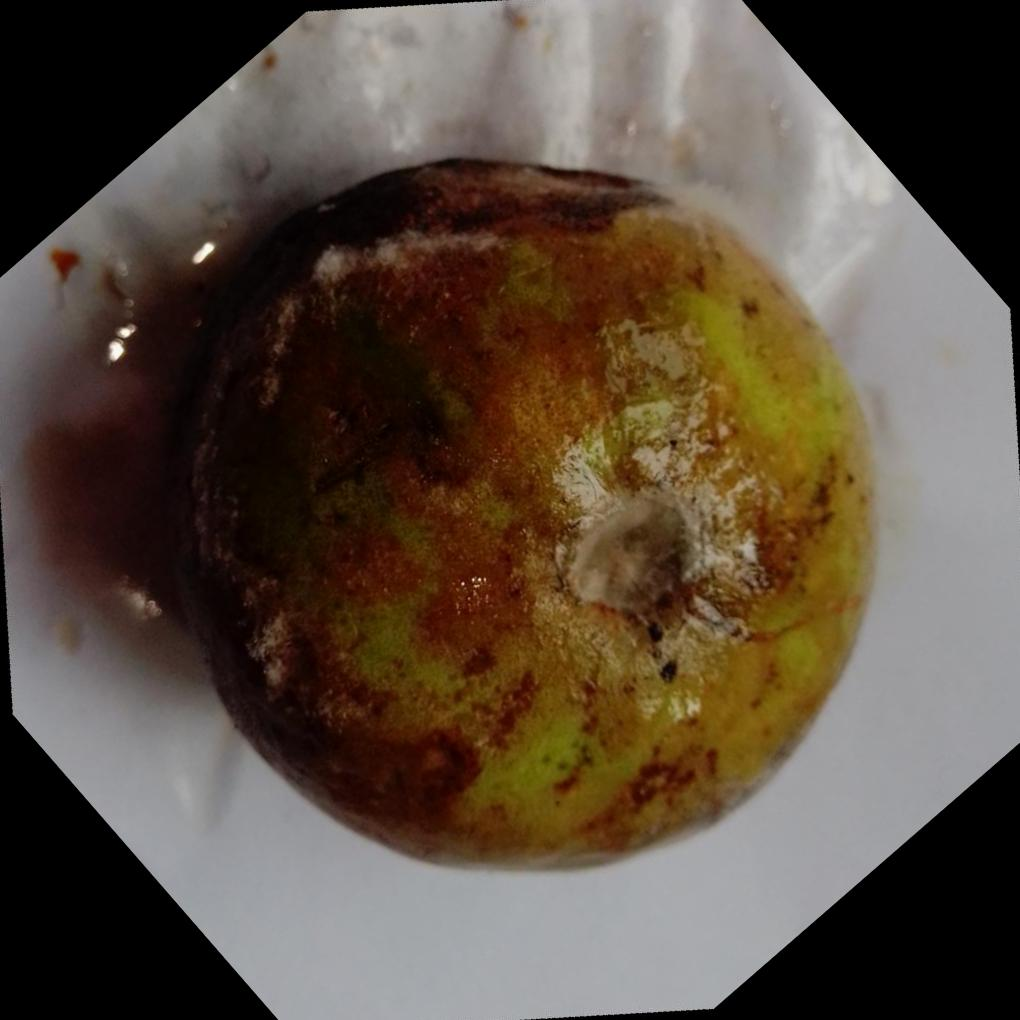FreshOrange: (160, 159, 877, 875)
